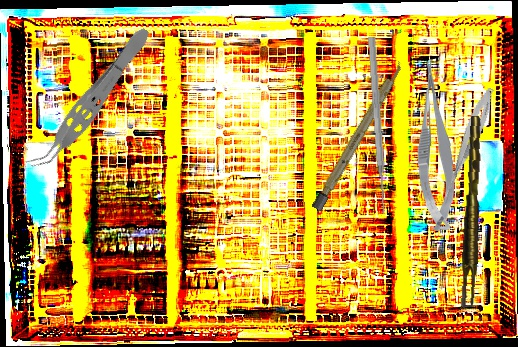Micro Scissor: (437, 85, 498, 208), (415, 61, 458, 231)
Pusher: (365, 36, 390, 215)
Scalpel Handle: (311, 59, 406, 212)
Tissue Forceps: (24, 20, 158, 180), (454, 115, 491, 309)
